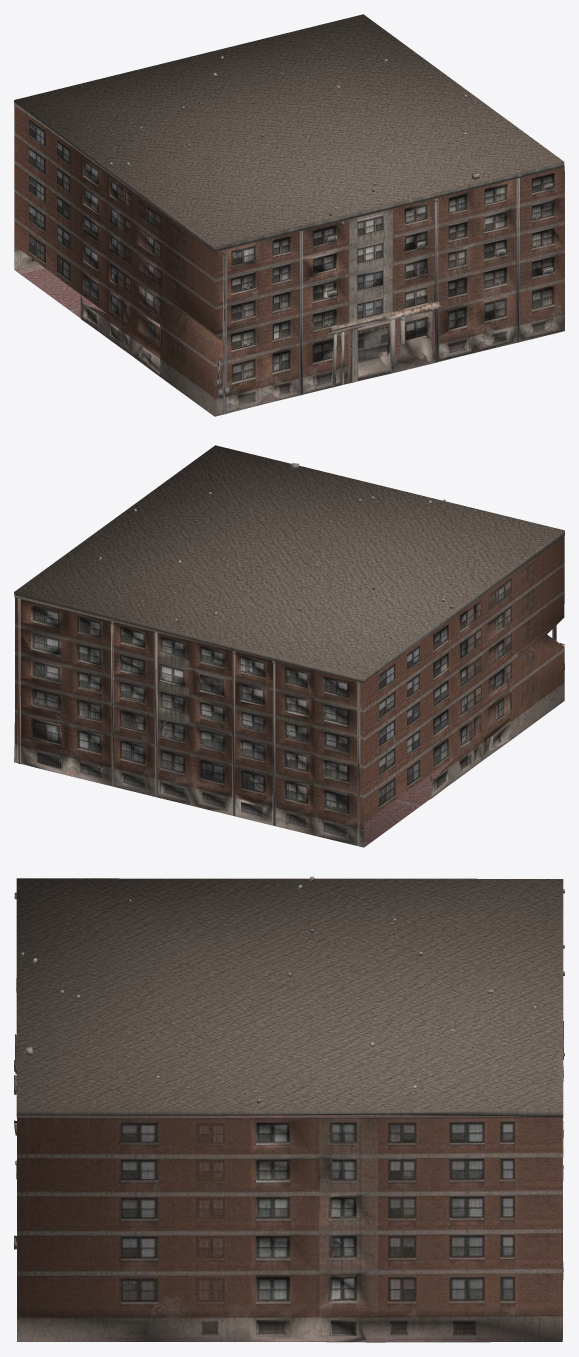
File: nawf-projects.glb
The picture shows the model from 3 angles, top to bottom: view 1: azimuth 30°, elevation 25°; view 2: azimuth 150°, elevation 25°; view 3: azimuth 270°, elevation 25°; orthographic projection. The views are drawn at different scales.
Size of the model in its own units: 0.958 by 0.457 by 0.959.
1 material, 1 textured.
